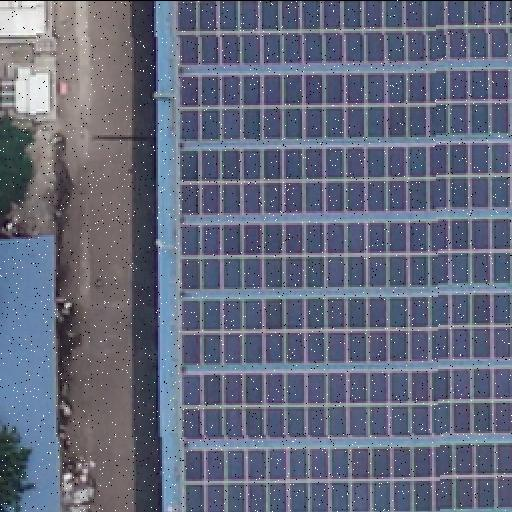solar-panel: (184, 366, 512, 442), (180, 143, 512, 217), (177, 68, 511, 140), (184, 294, 512, 366), (180, 217, 512, 287), (184, 441, 512, 511), (177, 0, 511, 64)
